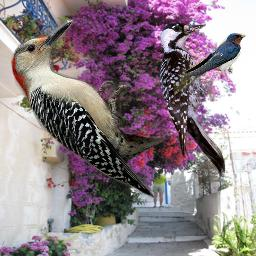Swallow: (173, 33, 246, 94)
Woodpecker: (10, 19, 165, 198), (158, 22, 225, 177)
